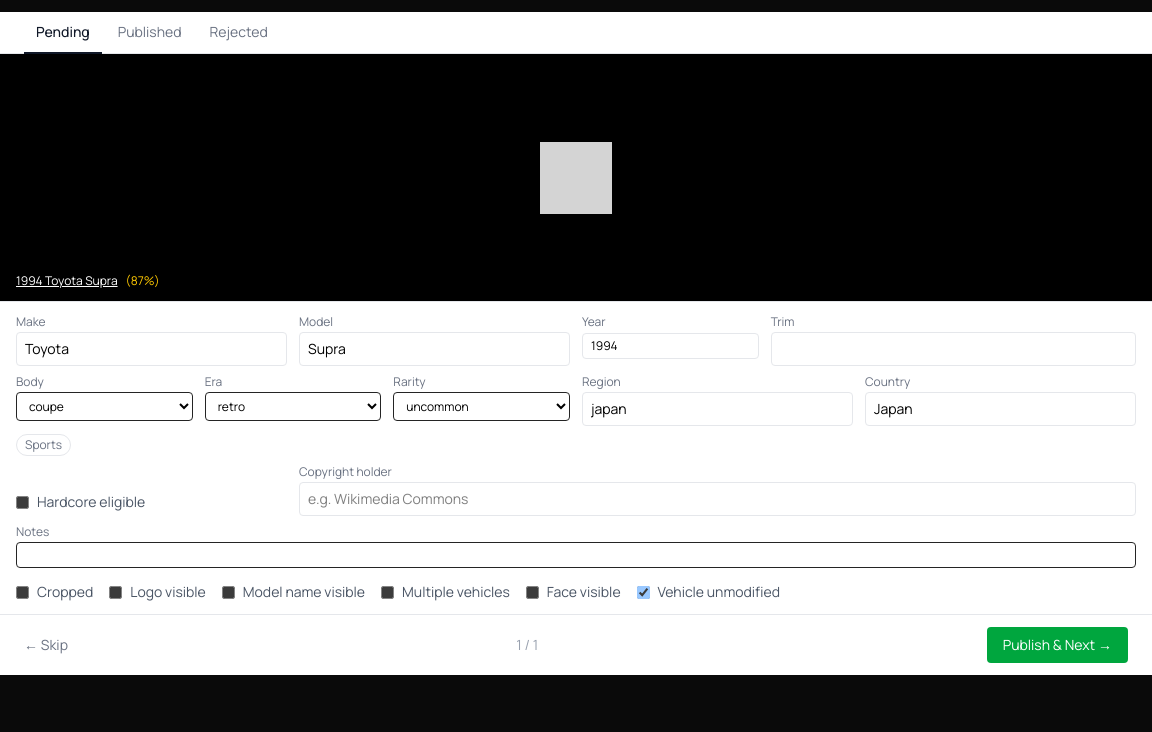
Scenario: ReviewQueuePanel › shows the all caught up state when the queue is exhausted
The image size is (1152, 732).
Click the button "← Skip": click(46, 645) [24,635,68,655]
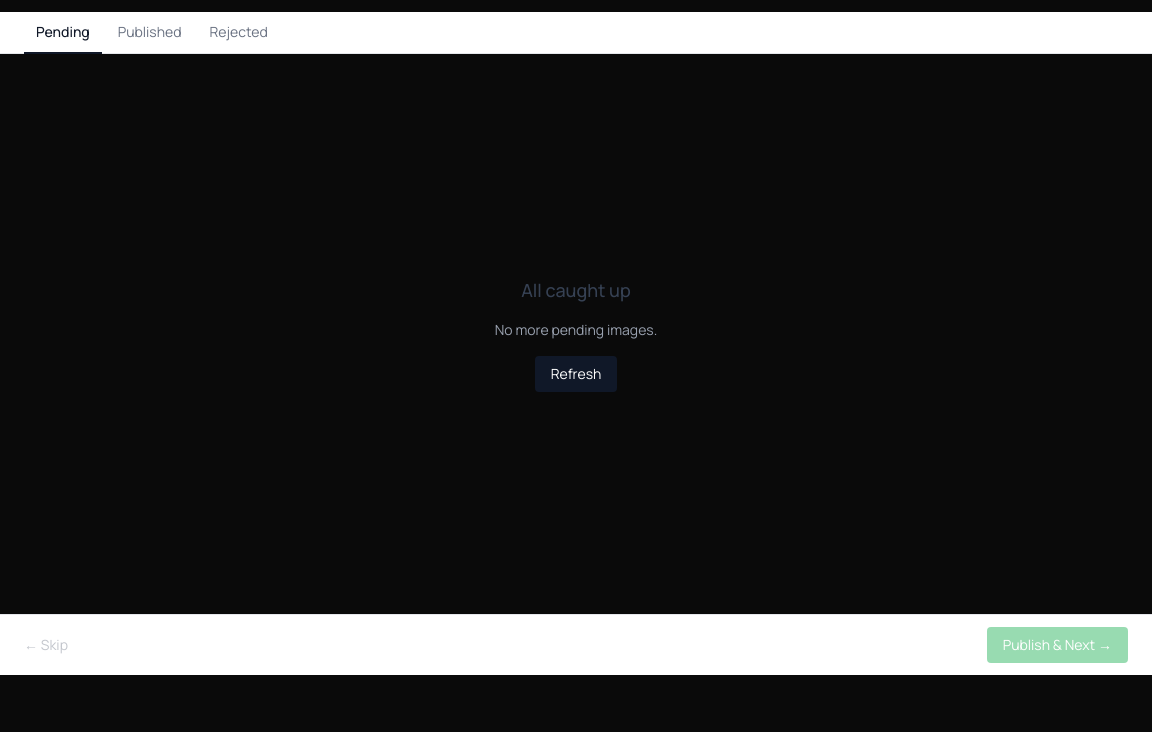
expect the text "All caught up" is shown: met, box [521,276,631,304]
expect the button "Refresh" is shown: met, box [535,356,617,392]
